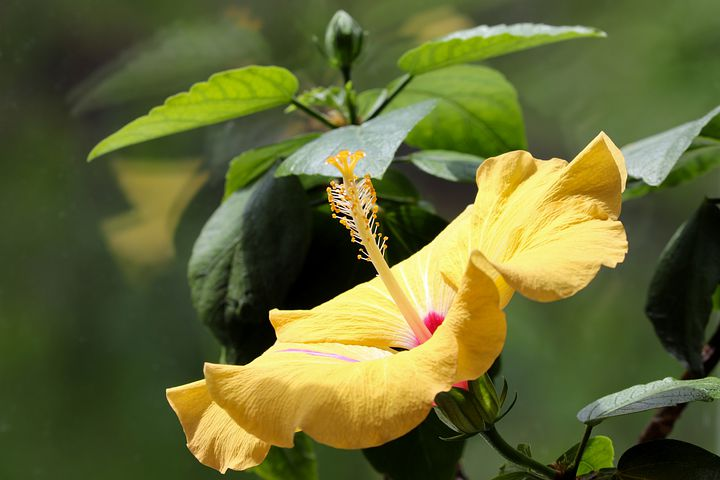Hibiscus: (150, 119, 645, 480), (307, 8, 407, 111)
